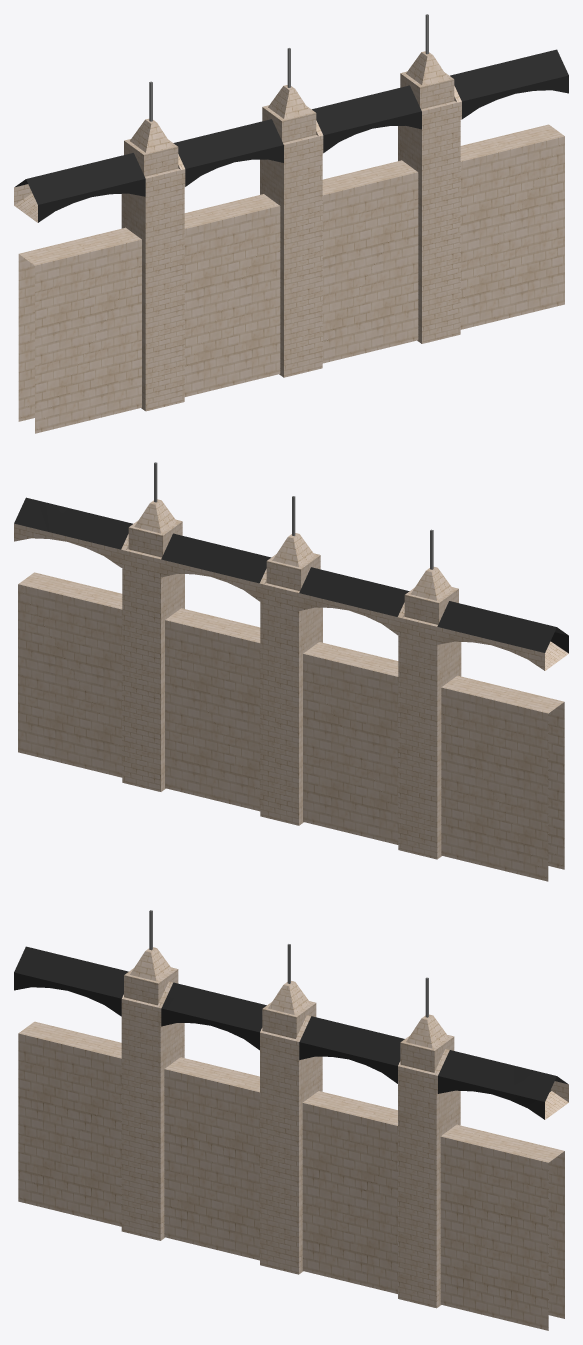
File: Sub_Wall.fbx
The picture shows the model from 3 angles, top to bottom: view 1: azimuth 30°, elevation 25°; view 2: azimuth 150°, elevation 25°; view 3: azimuth 330°, elevation 25°; orthographic projection.
Visible parts, largest first — view 1: SUB_WALL002; view 2: SUB_WALL002; view 3: SUB_WALL002.
Boxes of the visible parts, left/top/right/bottom form: SUB_WALL002: left=14, top=14, right=568, bottom=433; SUB_WALL002: left=14, top=462, right=568, bottom=881; SUB_WALL002: left=14, top=910, right=568, bottom=1330.
Bounding box in the file's own units: 2994 × 1704 × 234.
